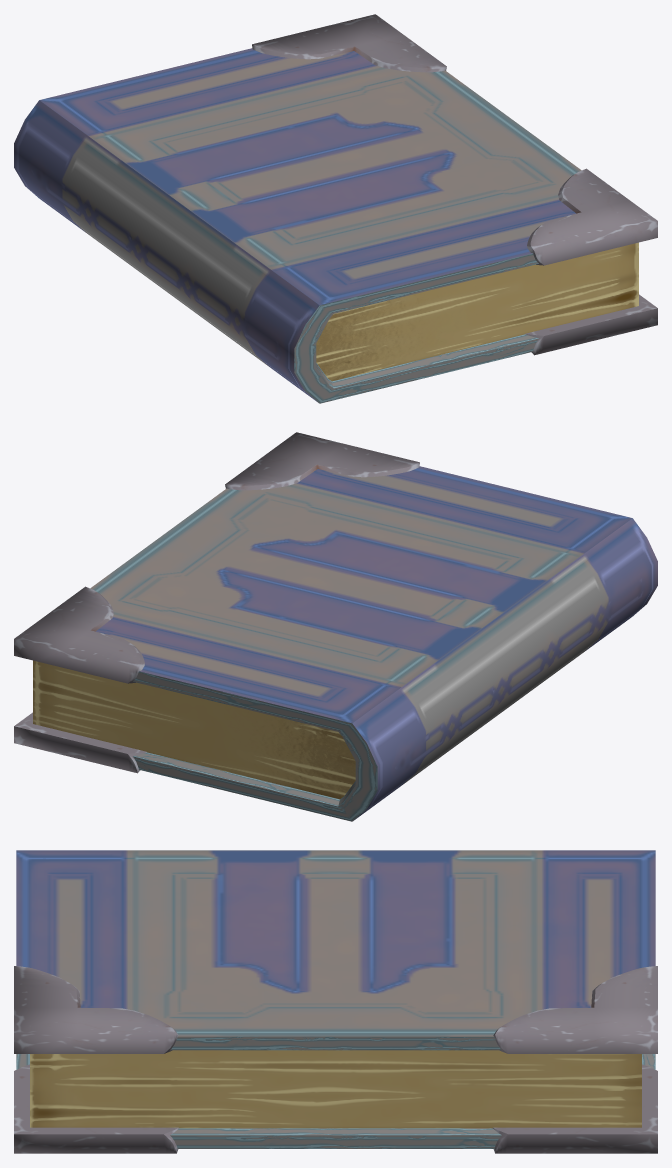
Rendered from Book_7.fbx.
3 renders of one model, top to bottom at view 1: azimuth 30°, elevation 25°; view 2: azimuth 150°, elevation 25°; view 3: azimuth 270°, elevation 25°, orthographic. The views are drawn at different scales.
Visible parts, largest first — view 1: Book_7; view 2: Book_7; view 3: Book_7.
Part boxes in pixels (box(x1,y1,x2,y2)): Book_7: box(14, 14, 657, 403); Book_7: box(14, 432, 657, 821); Book_7: box(14, 850, 657, 1153).
Size of the model in its own units: 24.7 by 6.79 by 33.33.
